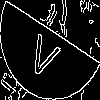V: (25, 25, 65, 82)
